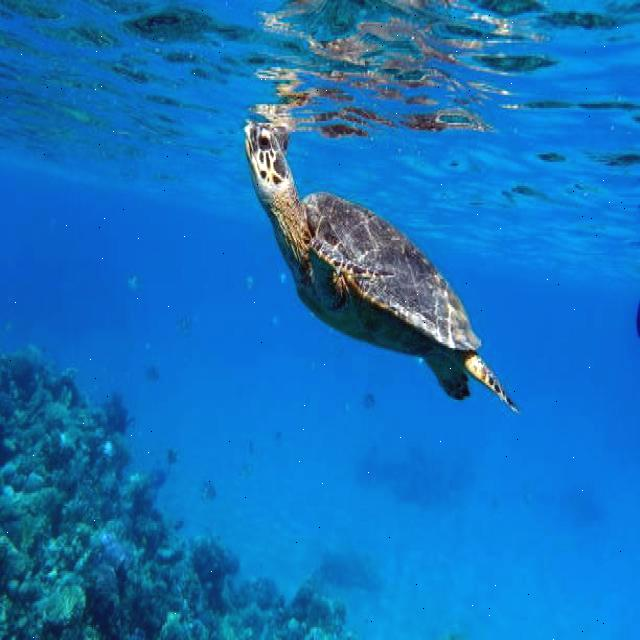tortoise: (237, 116, 539, 424)
